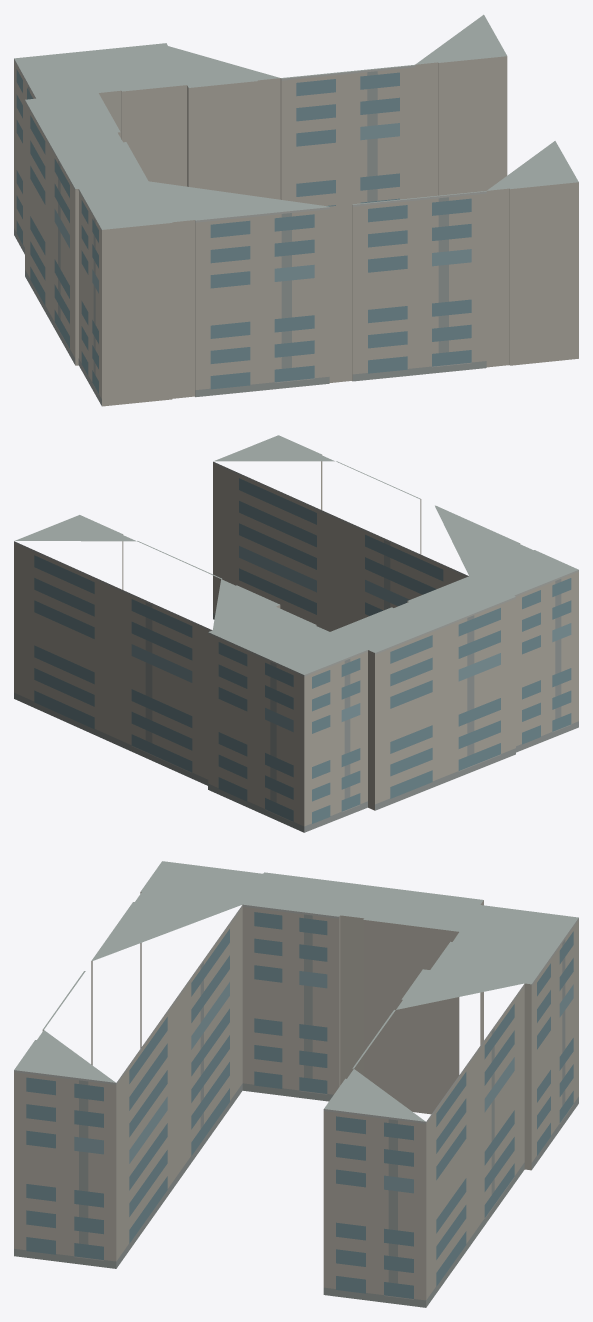
File: survey-upis-32880804.glb
3 renders of one model, top to bottom at view 1: azimuth 30°, elevation 25°; view 2: azimuth 150°, elevation 25°; view 3: azimuth 270°, elevation 25°, orthographic. The views are drawn at different scales.
Parts seen in each view (by area): view 1: survey-upis-32880804.tmp; view 2: survey-upis-32880804.tmp; view 3: survey-upis-32880804.tmp.
Boxes of the visible parts, box(x1,y1,x2,y2) form: survey-upis-32880804.tmp: box(14, 14, 578, 406); survey-upis-32880804.tmp: box(14, 435, 578, 832); survey-upis-32880804.tmp: box(14, 861, 578, 1307).
Size of the model in its own units: 65.15 by 21.67 by 59.65.
